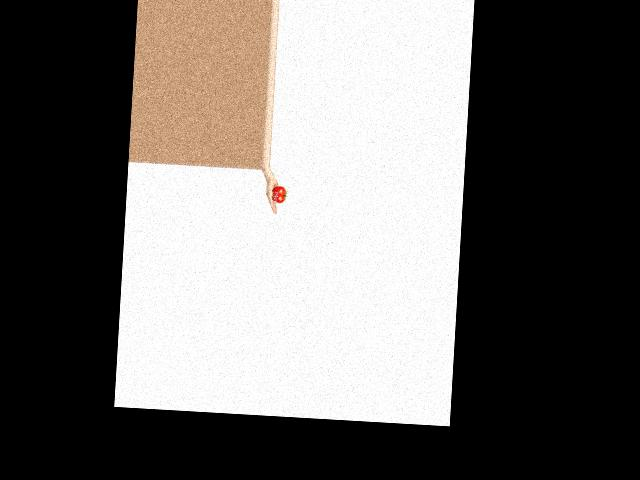tomato: (271, 186, 286, 203)
